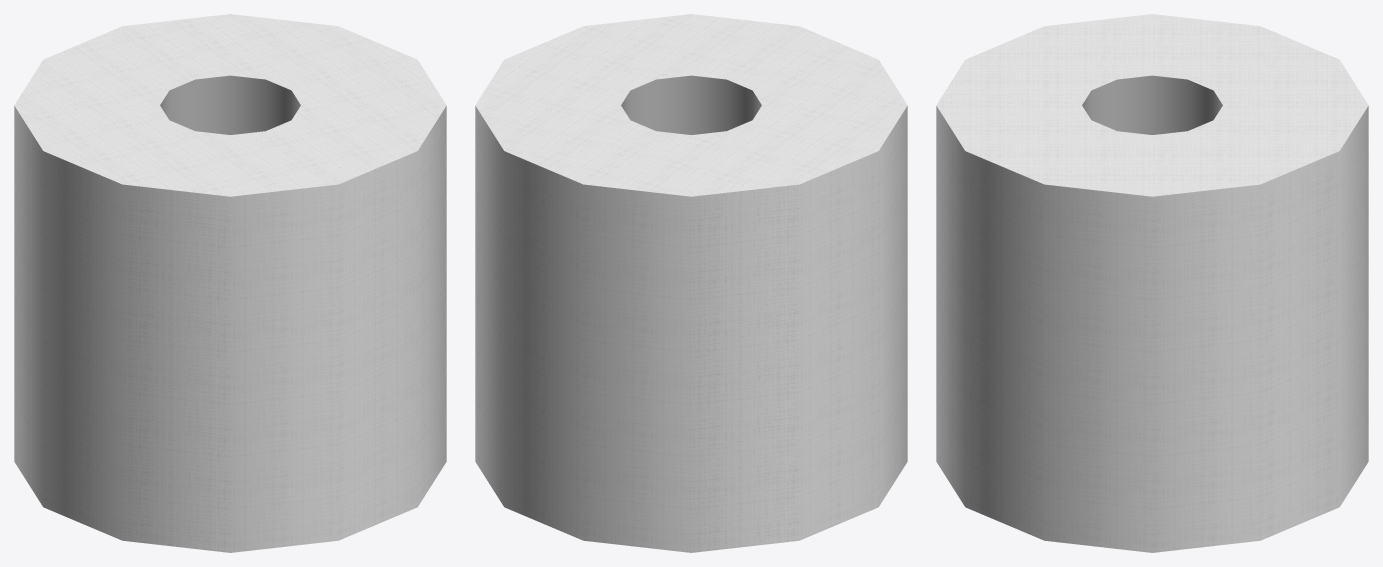
File: Toilet_Paper.fbx
The picture shows the model from 3 angles, left to right: view 1: azimuth 30°, elevation 25°; view 2: azimuth 150°, elevation 25°; view 3: azimuth 270°, elevation 25°; orthographic projection.
Parts seen in each view (by area): view 1: Toilet_Paper; view 2: Toilet_Paper; view 3: Toilet_Paper.
Part boxes in pixels (x1,y1,x2,y2): Toilet_Paper: (14,14,446,552); Toilet_Paper: (475,14,907,552); Toilet_Paper: (936,14,1368,552).
Size of the model in its own units: 11 by 10 by 11.
